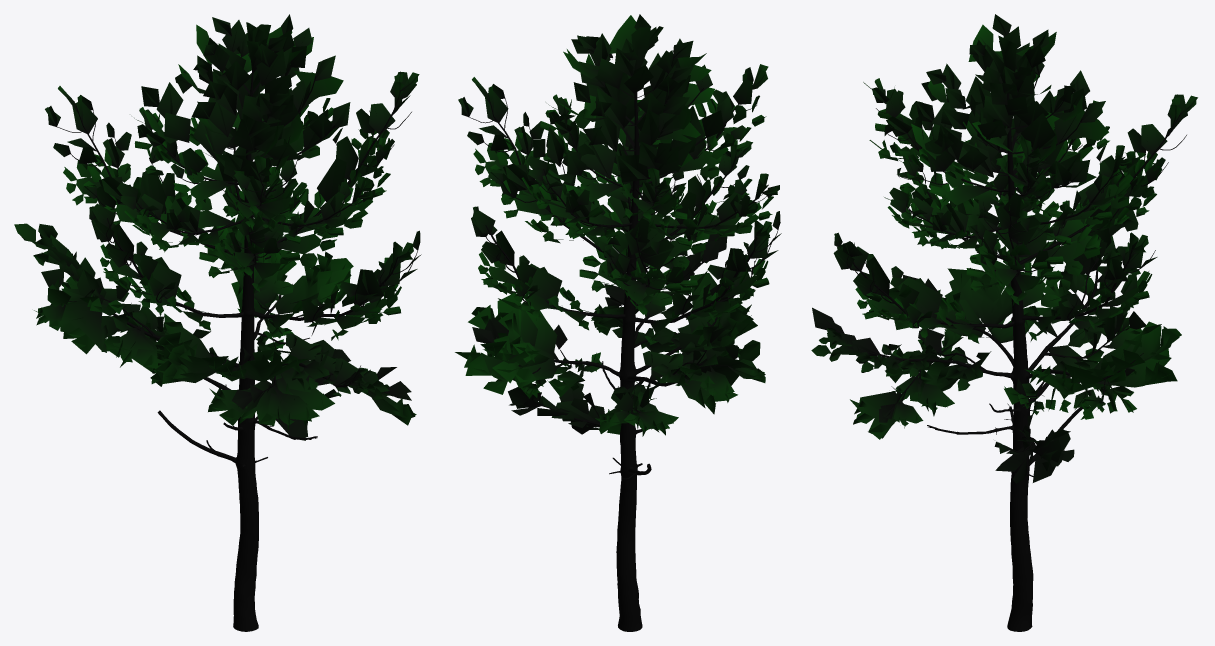
The model's file is Pine_beach_03_A.fbx.
3 views of the same model, side by side, from view 1: azimuth 30°, elevation 25°; view 2: azimuth 150°, elevation 25°; view 3: azimuth 270°, elevation 25° (orthographic). The views are drawn at different scales.
Parts seen in each view (by area): view 1: pine_beach_03_A_LOD0; view 2: pine_beach_03_A_LOD0; view 3: pine_beach_03_A_LOD0.
Part boxes in pixels (x1,y1,x2,y2): pine_beach_03_A_LOD0: [14, 14, 421, 631]; pine_beach_03_A_LOD0: [455, 14, 781, 631]; pine_beach_03_A_LOD0: [811, 14, 1197, 631].
Size of what is drawn, in the model's own units: 439 by 738 by 438.
